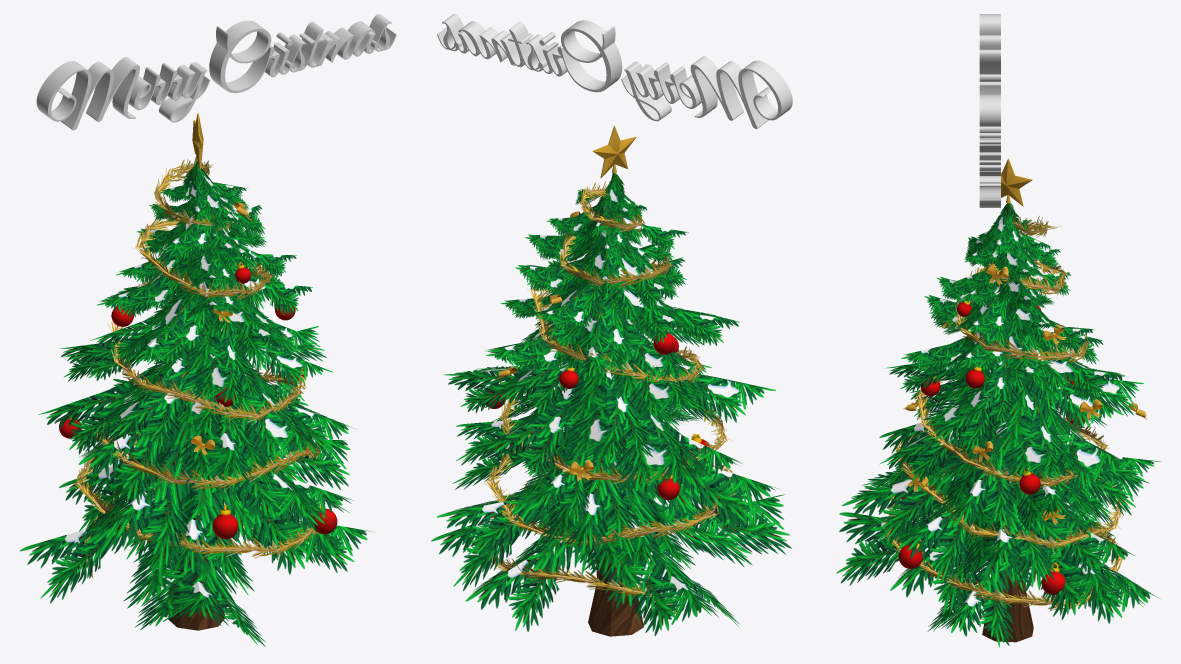
The model's file is CristmasTree_animated1.glb.
The picture shows the model from 3 angles, left to right: view 1: azimuth 30°, elevation 25°; view 2: azimuth 150°, elevation 25°; view 3: azimuth 270°, elevation 25°; orthographic projection. The views are drawn at different scales.
Visible parts, largest first — view 1: Tree.001, Cristmas text, Garland, Bowred, polySurface46; view 2: Tree.001, Cristmas text, Garland, Star, Bowred; view 3: Tree.001, Garland, Cristmas text, Bowred, Star, polySurface45.
Boxes of the visible parts, bbox=[...] form: Tree.001: bbox=[20, 161, 373, 646]; Cristmas text: bbox=[36, 14, 396, 130]; Garland: bbox=[71, 157, 326, 577]; Bowred: bbox=[86, 202, 314, 457]; polySurface46: bbox=[212, 504, 238, 538]; Tree.001: bbox=[431, 173, 791, 636]; Cristmas text: bbox=[437, 14, 792, 128]; Garland: bbox=[482, 181, 736, 614]; Star: bbox=[592, 126, 636, 177]; Bowred: bbox=[486, 207, 706, 481]; Tree.001: bbox=[836, 203, 1160, 647]; Garland: bbox=[883, 211, 1127, 612]; Cristmas text: bbox=[979, 14, 1000, 207]; Bowred: bbox=[903, 264, 1147, 524]; Star: bbox=[1001, 158, 1032, 206]; polySurface45: bbox=[1042, 563, 1065, 595].
Bounding box in the file's own units: 1.92 × 3.12 × 1.69.
Materials: 4 (3 with a texture image).
